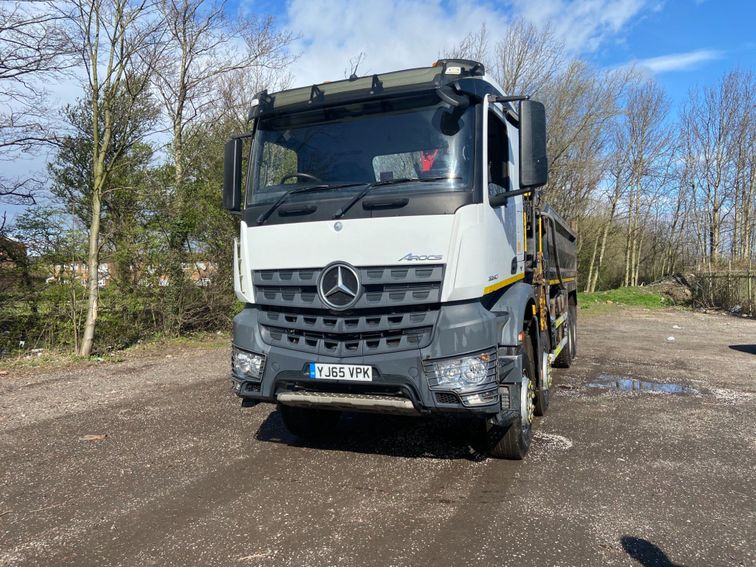Semi: (223, 52, 575, 458)
